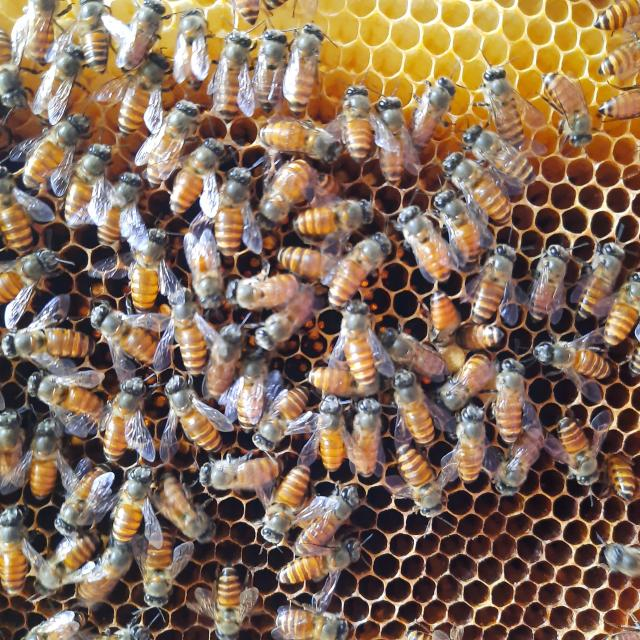honeybee: (18, 114, 93, 192), (164, 377, 233, 458), (93, 306, 173, 374), (326, 234, 396, 310), (444, 153, 513, 228), (331, 301, 387, 391), (294, 486, 363, 558), (134, 520, 187, 613), (274, 534, 366, 586), (249, 284, 320, 350), (542, 73, 598, 156), (140, 98, 194, 184), (160, 289, 214, 373), (103, 379, 156, 464), (0, 323, 102, 367), (477, 62, 528, 150), (464, 122, 534, 186), (127, 224, 178, 310), (151, 474, 215, 542), (38, 528, 104, 593), (28, 45, 84, 120), (257, 117, 341, 167), (576, 239, 626, 323), (29, 369, 114, 418), (108, 51, 160, 131), (213, 164, 260, 252), (436, 193, 486, 274), (0, 165, 45, 254), (398, 210, 455, 280), (264, 462, 312, 544), (166, 138, 219, 212), (380, 329, 448, 386), (212, 30, 254, 122), (0, 252, 64, 312), (500, 423, 550, 499), (78, 545, 134, 612), (278, 23, 320, 112), (396, 448, 447, 521), (256, 381, 312, 447), (200, 453, 281, 498), (377, 98, 417, 188), (203, 566, 252, 639), (96, 173, 142, 250), (390, 372, 437, 445), (294, 194, 377, 235), (475, 242, 516, 324), (180, 231, 223, 309), (59, 468, 111, 532), (533, 340, 612, 382), (338, 84, 382, 159), (262, 158, 315, 220), (416, 69, 455, 153), (114, 464, 152, 549), (73, 0, 117, 73), (227, 360, 274, 428), (440, 353, 494, 412), (601, 263, 640, 343), (116, 0, 162, 67), (171, 9, 209, 90), (64, 141, 102, 222), (208, 324, 246, 403), (27, 421, 64, 501), (276, 247, 346, 289), (312, 393, 349, 472), (0, 30, 33, 116), (559, 418, 599, 488), (531, 240, 565, 322), (22, 1, 64, 66), (0, 504, 31, 592), (250, 28, 282, 113), (274, 606, 356, 639), (352, 398, 383, 482), (494, 360, 524, 442), (226, 278, 298, 312), (458, 404, 486, 480), (0, 406, 21, 495), (428, 285, 461, 341), (595, 39, 640, 79), (588, 0, 640, 32), (456, 320, 505, 353), (22, 613, 81, 640), (602, 539, 640, 579), (595, 88, 640, 117), (605, 456, 635, 498), (404, 620, 464, 640), (226, 0, 261, 28), (106, 622, 152, 640), (607, 622, 640, 640), (628, 344, 640, 384), (260, 0, 290, 15)
